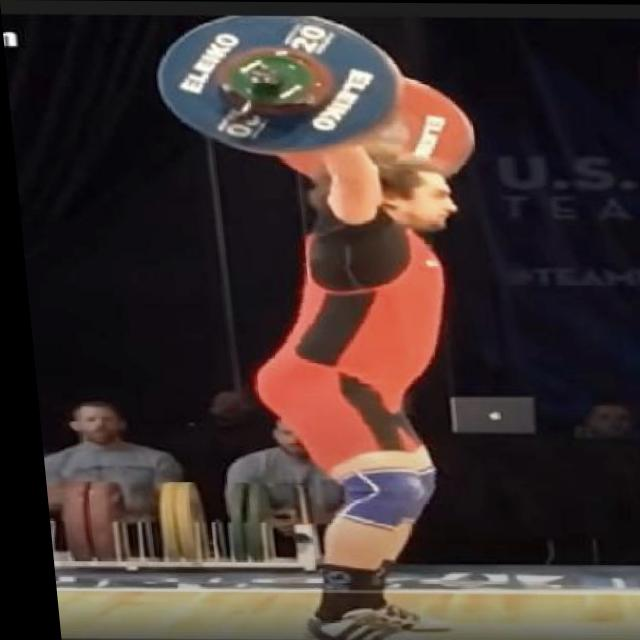barbell: (147, 25, 408, 159)
